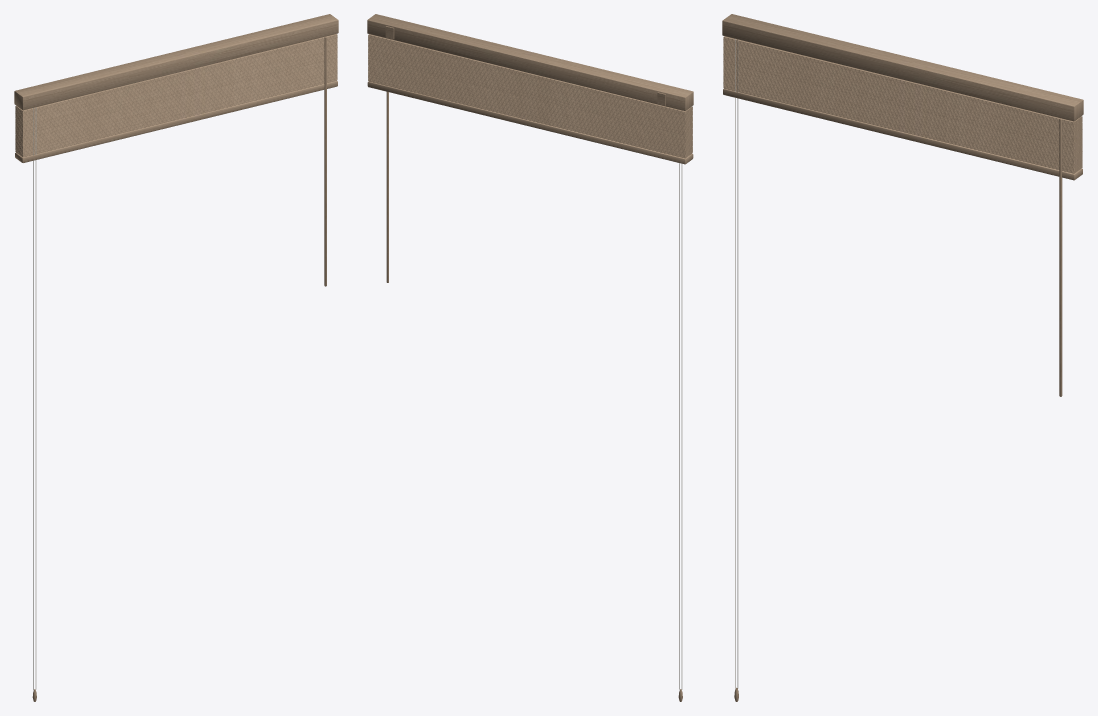
Rendered from veneciana_madera_220_c0.glb.
3 views of the same model, side by side, from view 1: azimuth 30°, elevation 25°; view 2: azimuth 150°, elevation 25°; view 3: azimuth 330°, elevation 25° (orthographic). The views are drawn at different scales.
Parts seen in each view (by area): view 1: veneciana_madera_220_c0; view 2: veneciana_madera_220_c0; view 3: veneciana_madera_220_c0.
Boxes of the visible parts, x1,y1,x2,y2 form: veneciana_madera_220_c0: [14, 14, 338, 701]; veneciana_madera_220_c0: [367, 14, 693, 701]; veneciana_madera_220_c0: [722, 14, 1083, 701].
Bounding box in the file's own units: 1.2 × 2.2 × 0.0639.
2 materials, 1 textured.
